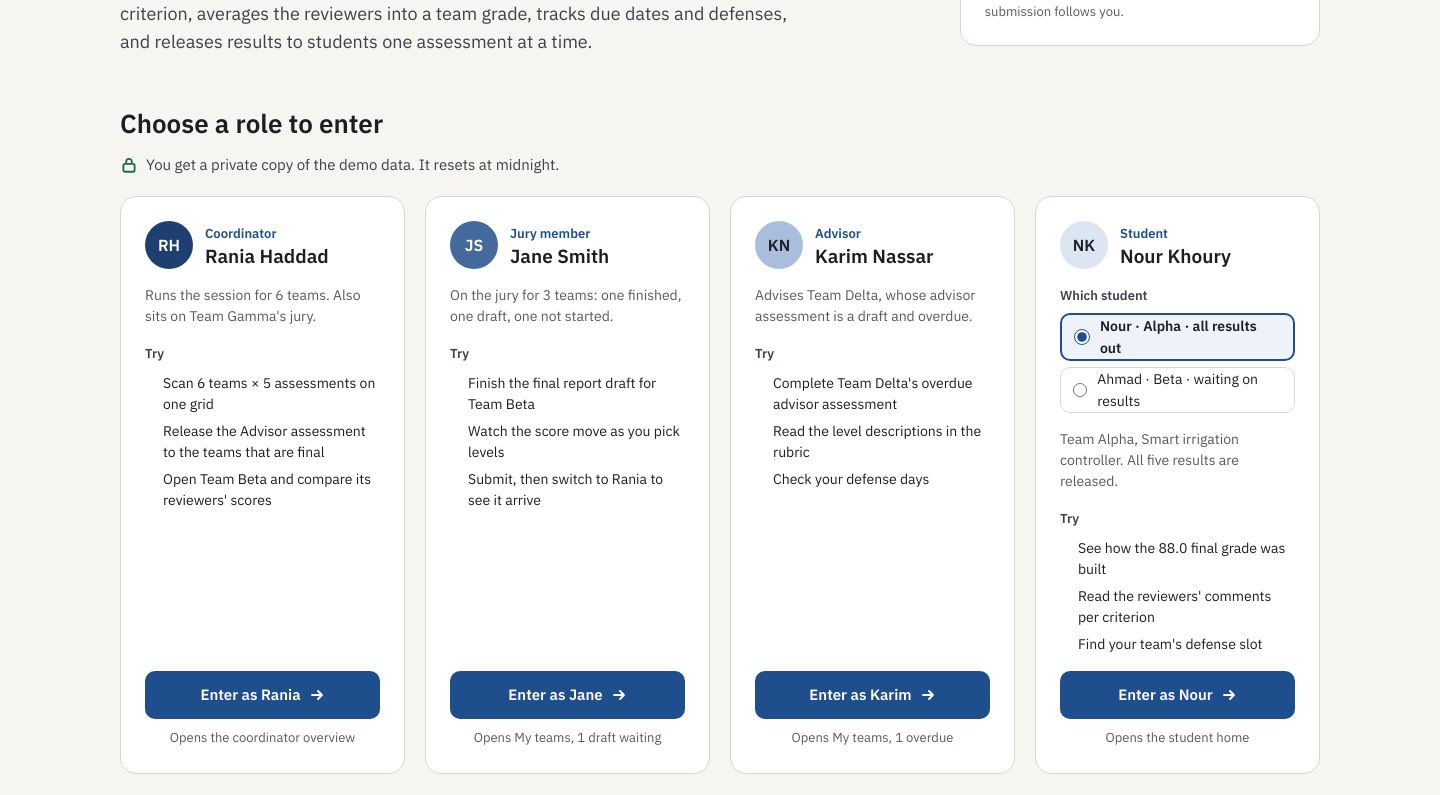
P1 Student card › keeps four cards and lets the visitor pick which student to enter as
(page scrolled)
Expected: the radio button labelled "Nour · Alpha · all results out" is checked, [1074,329,1090,345]
Expected: the button "Enter as Nour" is shown, [1060,671,1295,719]
Click the radio button labelled "Ahmad · Beta · waiting on results": (1080, 390) [1073,382,1087,398]
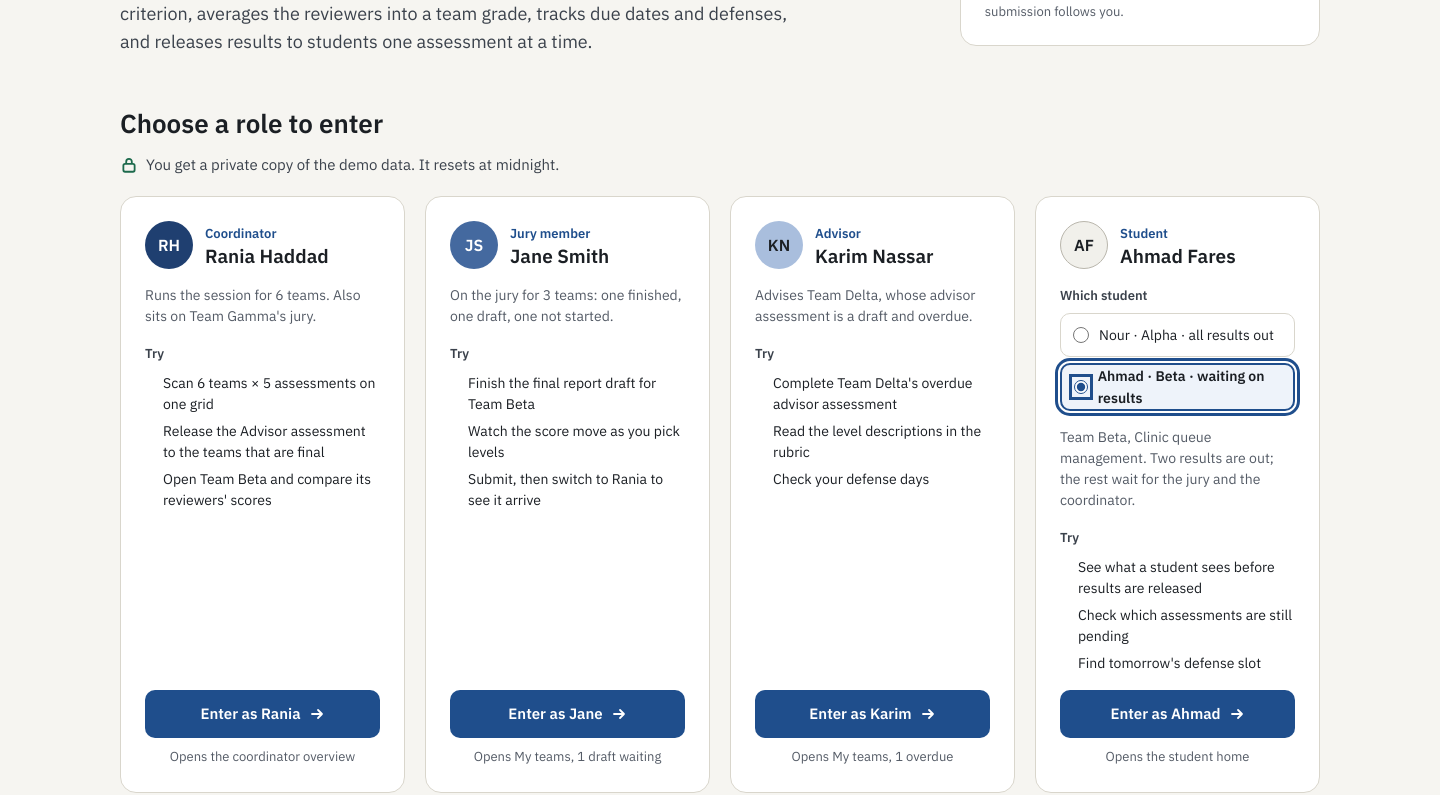
Result: the button "Enter as Ahmad" is shown at [1060,690,1295,738]
Result: the button "Enter as Nour" is gone
